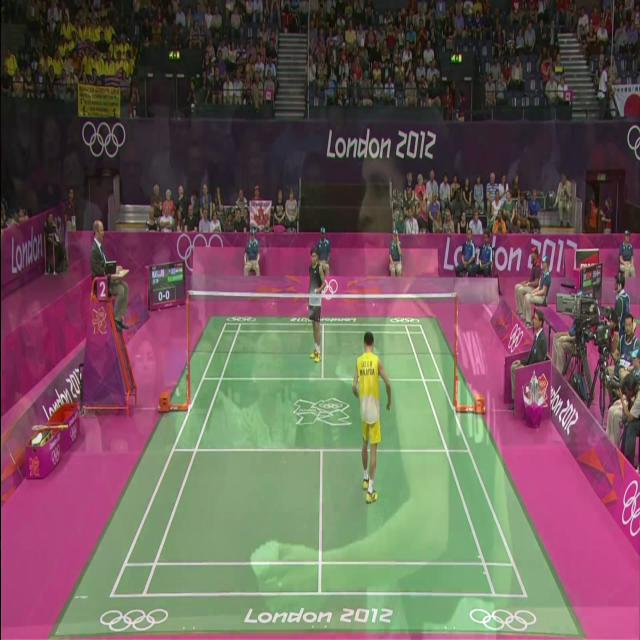Net: (174, 278, 458, 379)
Player1: (323, 329, 401, 544)
Player2: (292, 214, 332, 345)
Shuttlecock: (307, 244, 326, 273)
